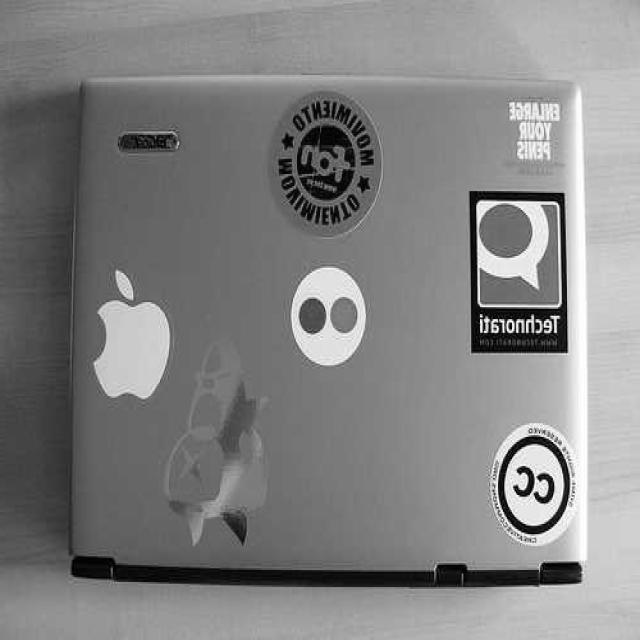laptop: (65, 66, 583, 594)
